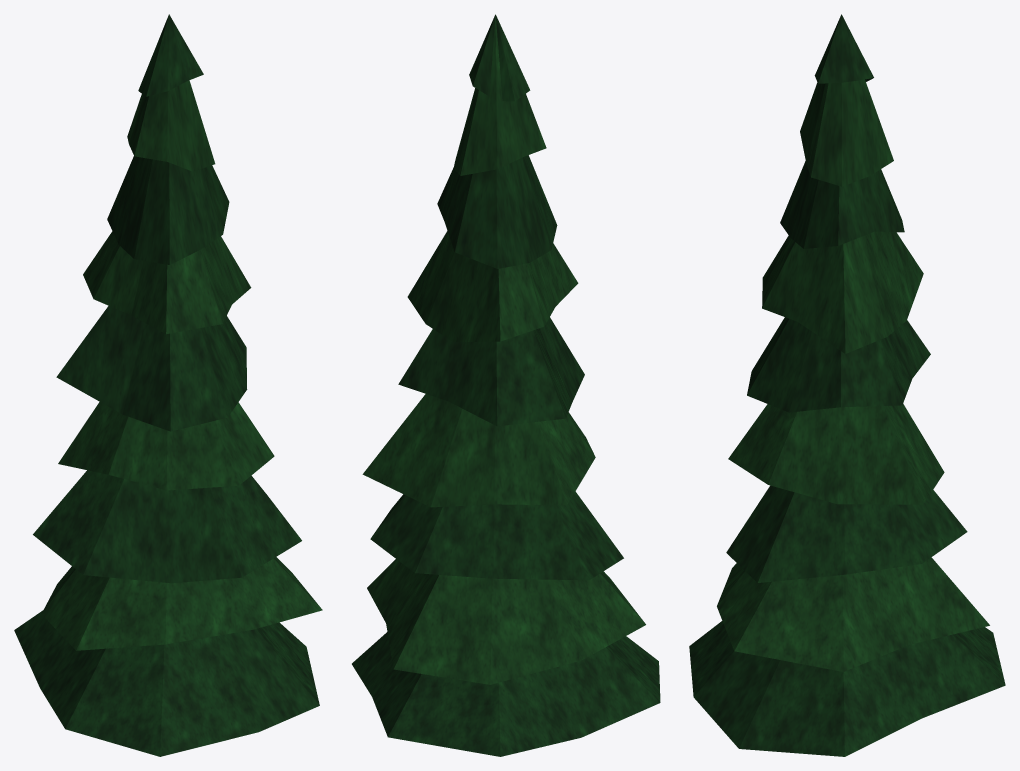
Rendered from conifer_m.glb.
3 views of the same model, side by side, from view 1: azimuth 30°, elevation 25°; view 2: azimuth 150°, elevation 25°; view 3: azimuth 270°, elevation 25° (orthographic). The views are drawn at different scales.
Parts seen in each view (by area): view 1: conifer_m; view 2: conifer_m; view 3: conifer_m.
Part boxes in pixels (<box>): conifer_m: <box>14,14,322,756</box>; conifer_m: <box>352,14,660,756</box>; conifer_m: <box>689,14,1005,756</box>.
Size of the model in its own units: 5.86 by 14 by 5.86.
3 materials, 3 textured.
